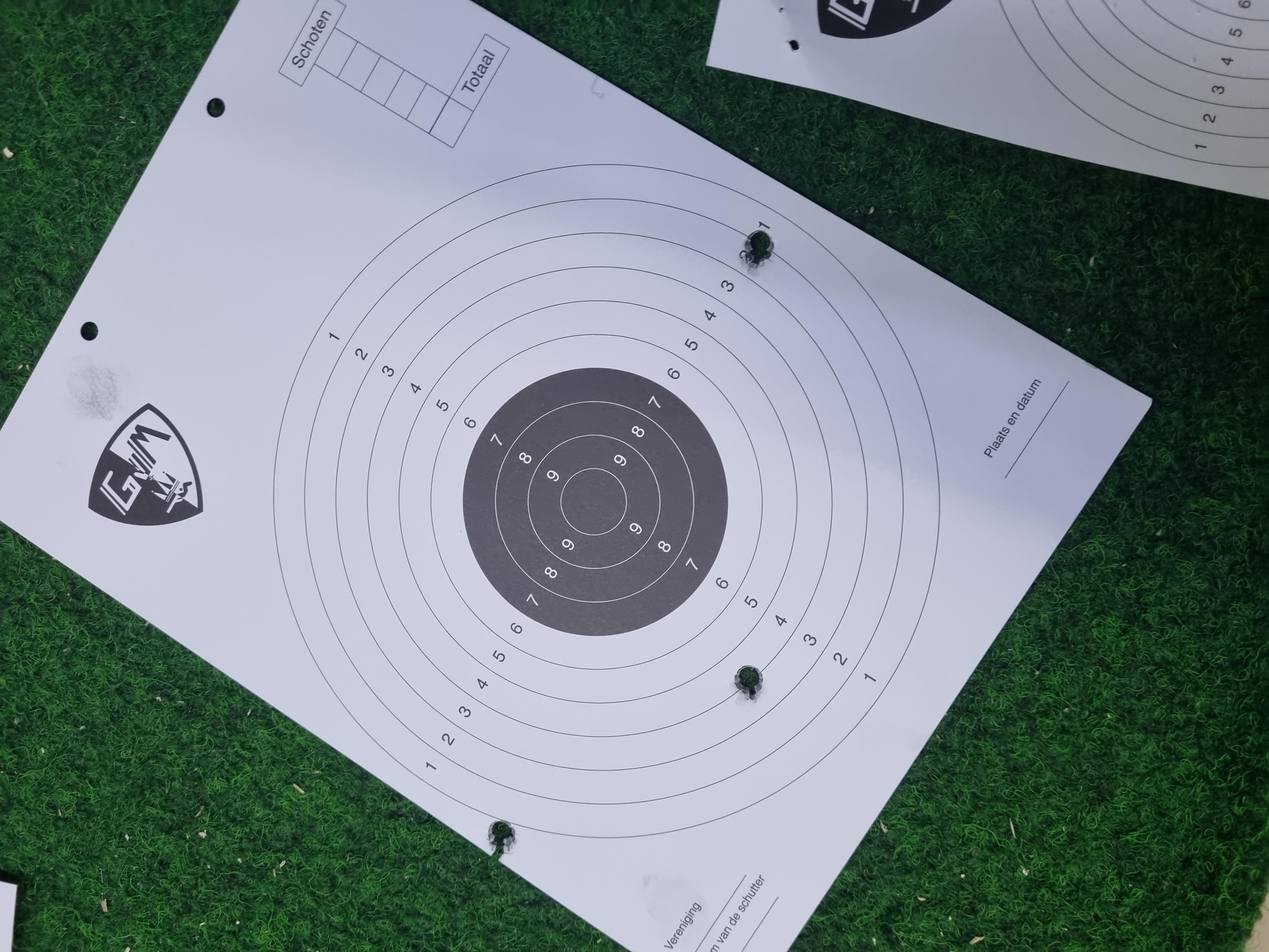hole: (915, 557, 963, 582), (338, 550, 381, 575), (135, 365, 175, 388)
